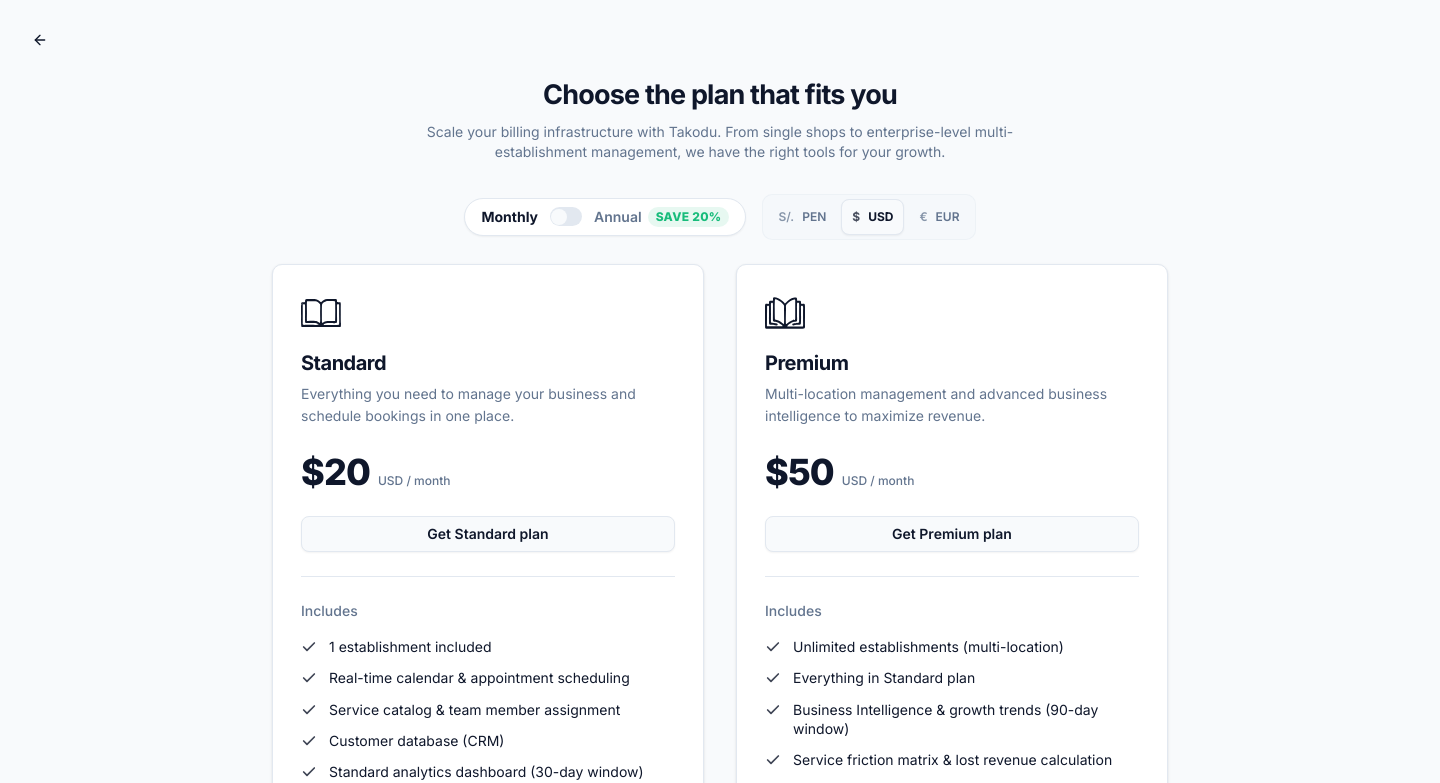
Scenario: SubscribeView Component › switches currency between PEN, USD, and EUR
Expected: the text "$20" is shown, [301,452,370,492]
What coordinates should you click on to do the following:
click the button "S/. PEN"
I would click on:
 (802, 217)
Its box is [767,199,837,235].
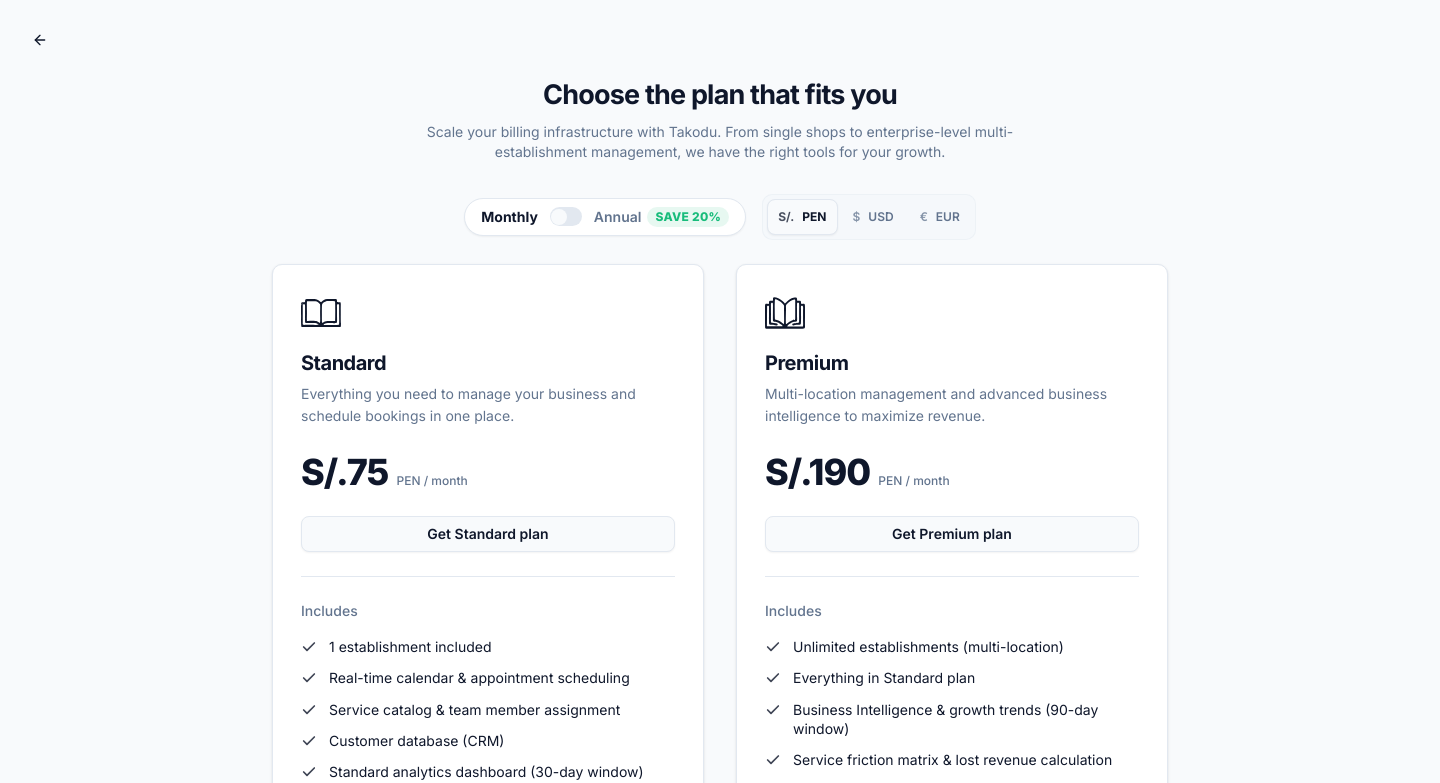
Result: the text "S/.75" is shown at [301,452,388,492]
